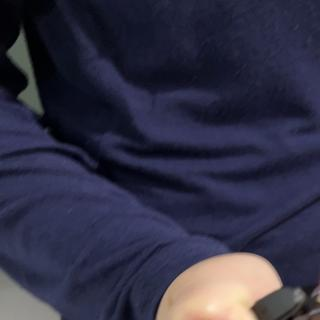fire: (316, 233, 320, 303)
